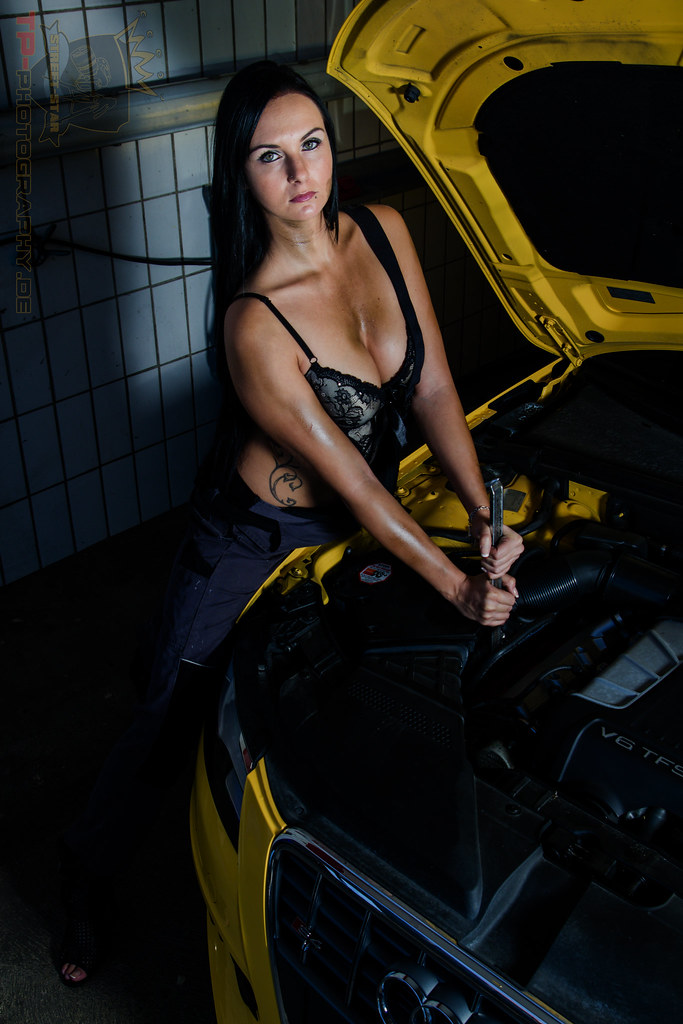person: (201, 40, 542, 720)
